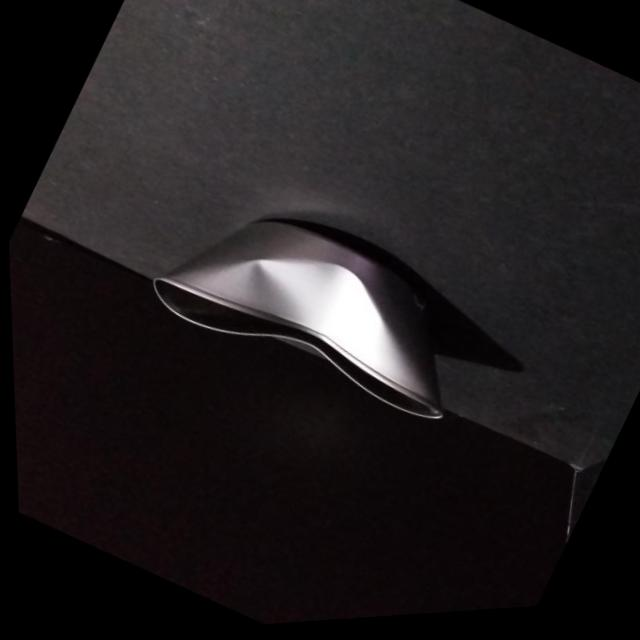metal: (128, 150, 501, 463)
